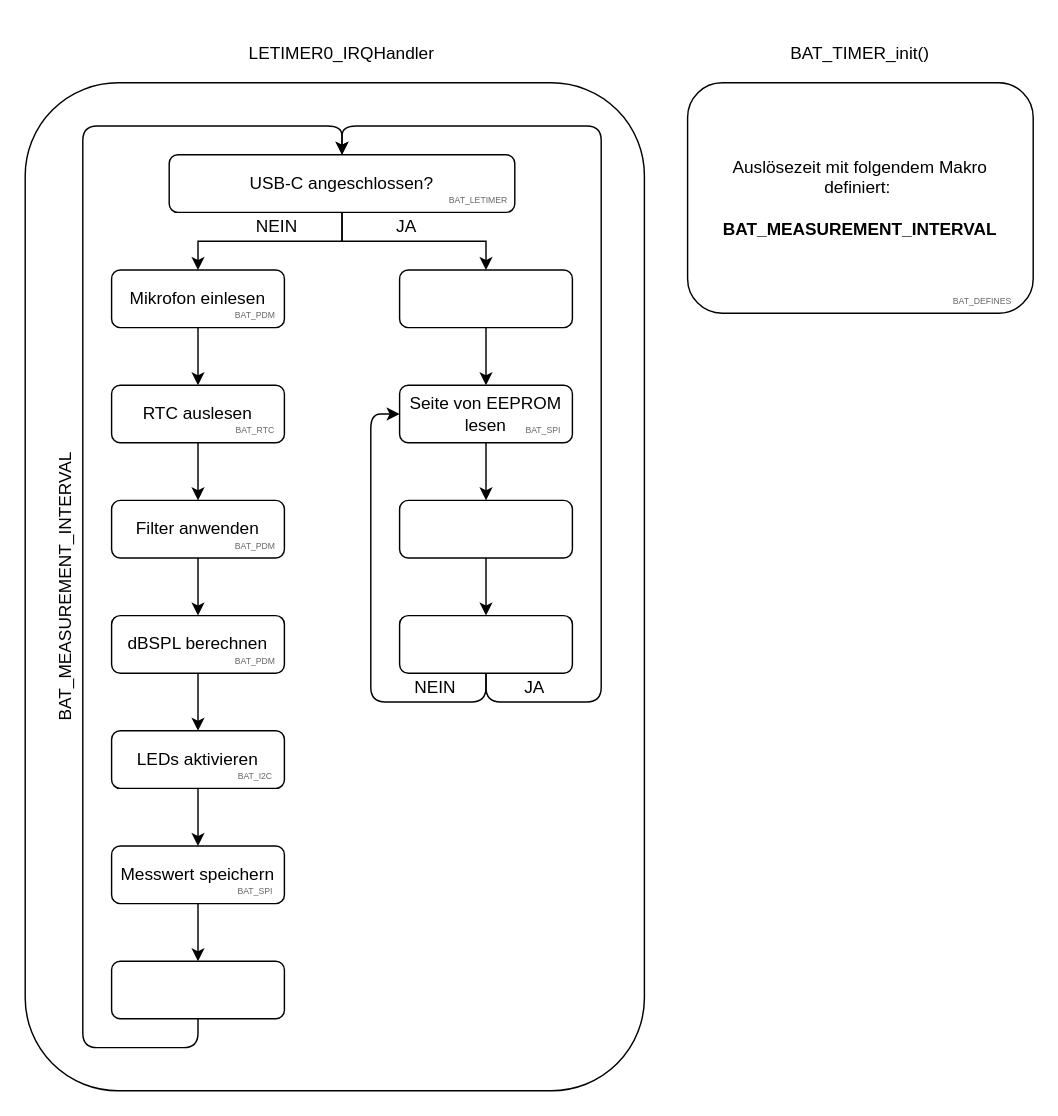
Image size: 1058x1116. Some labels were removed from this diagram. Here are the shapes that lost their labels. From the top down, the centre of each, then its label:
point 485,298: BLE aktivieren
point 485,528: Übertragen
point 485,643: EEPROM leer?
point 197,989: Energiesparmodus
